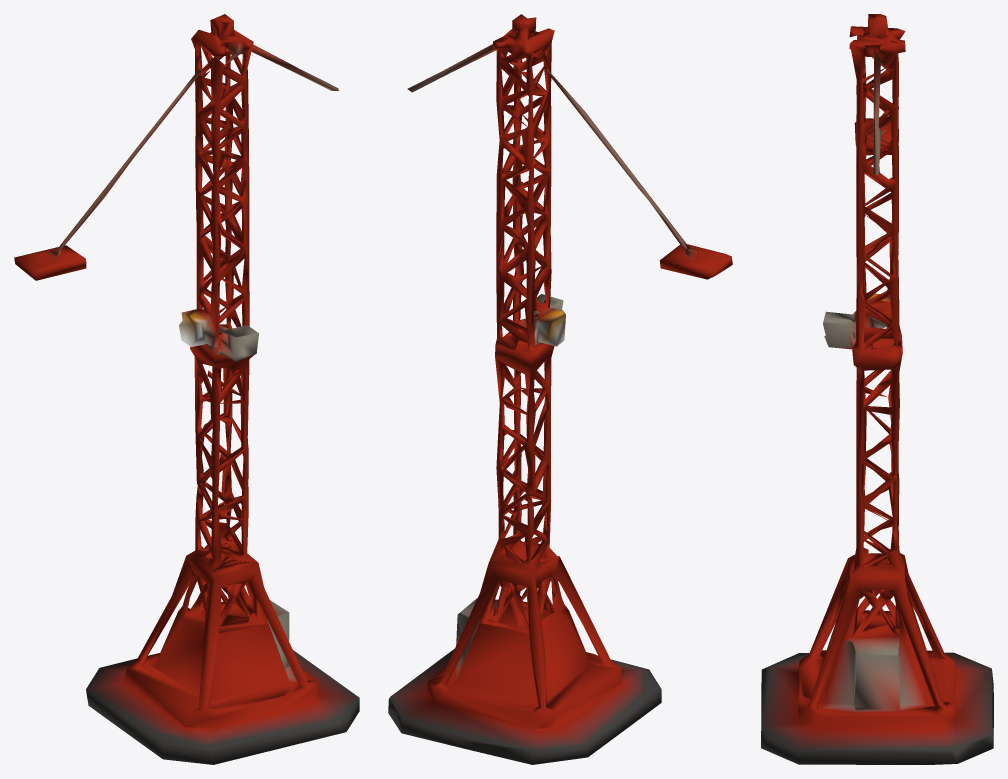
The model's file is gen3d-harbor-crane-lod1.glb.
3 renders of one model, left to right at view 1: azimuth 30°, elevation 25°; view 2: azimuth 150°, elevation 25°; view 3: azimuth 270°, elevation 25°, orthographic.
Visible parts, largest first — view 1: part_0; view 2: part_0; view 3: part_0.
Part boxes in pixels (x1=…): part_0: x1=14, y1=14, x2=359, y2=764; part_0: x1=388, y1=14, x2=732, y2=764; part_0: x1=761, y1=14, x2=993, y2=764.
Bounding box in the file's own units: 0.4786 × 0.9989 × 0.3013.
